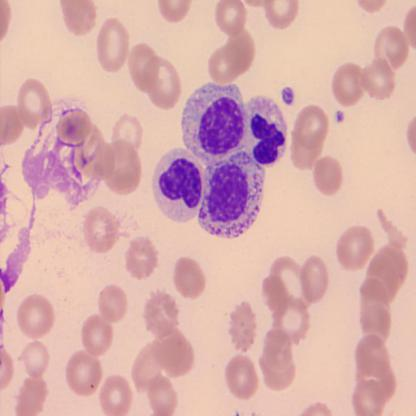Myelocyte: (196, 152, 262, 240), (182, 76, 245, 158)
